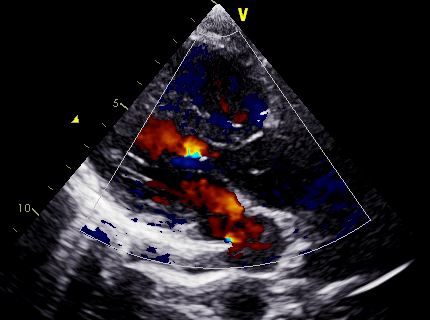AR: (151, 119, 219, 174)
